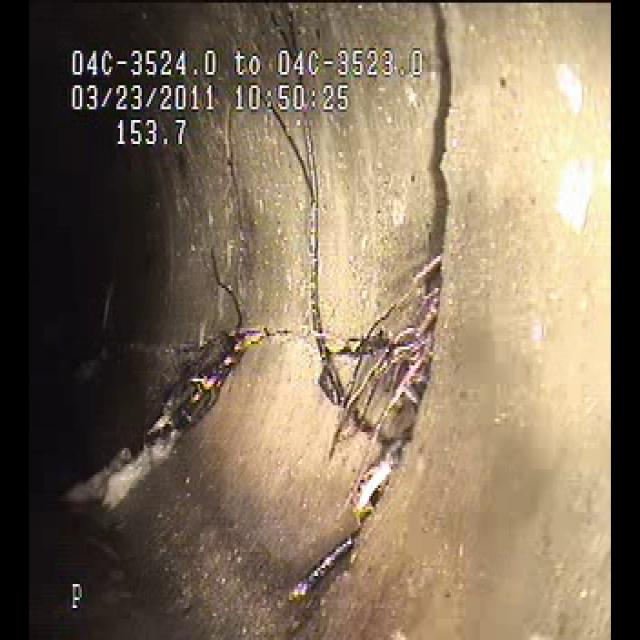Fracture: (180, 223, 412, 471)
